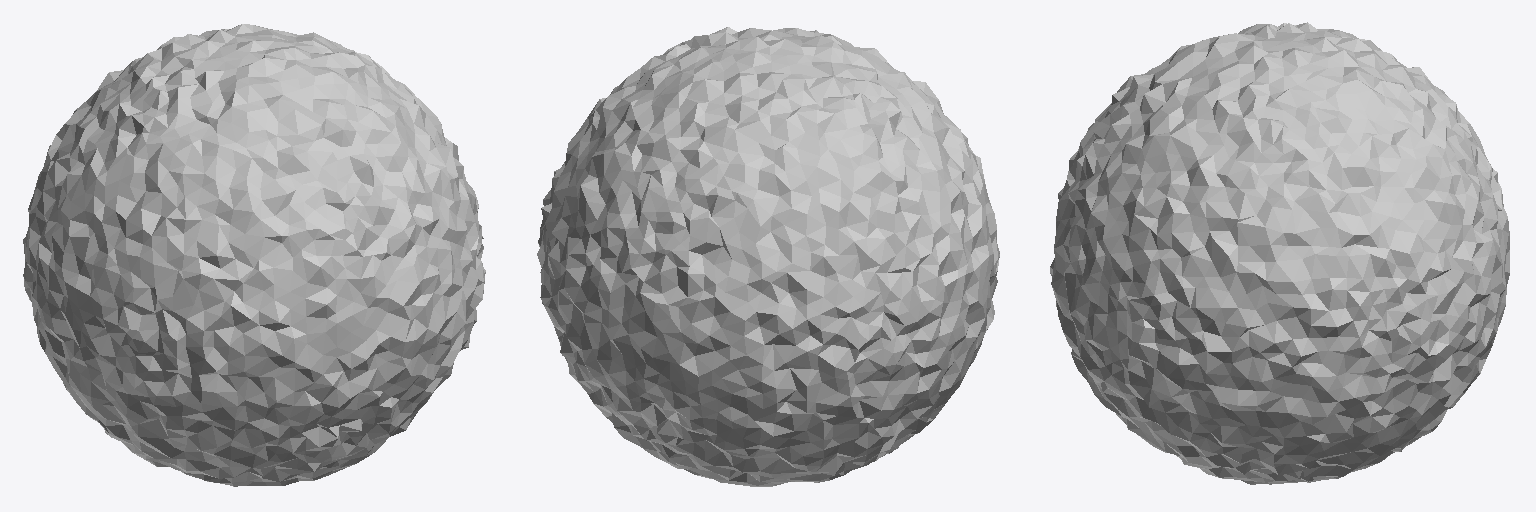
The model's file is Earth.obj.
3 views of the same model, side by side, from view 1: azimuth 30°, elevation 25°; view 2: azimuth 150°, elevation 25°; view 3: azimuth 270°, elevation 25° (orthographic).
Visible parts, largest first — view 1: Earth; view 2: Earth; view 3: Earth.
Boxes of the visible parts, x1=… form: Earth: x1=23, y1=24, x2=485, y2=486; Earth: x1=537, y1=27, x2=999, y2=486; Earth: x1=1050, y1=22, x2=1509, y2=484.
Bounding box in the file's own units: 2.04 × 2.03 × 2.03.